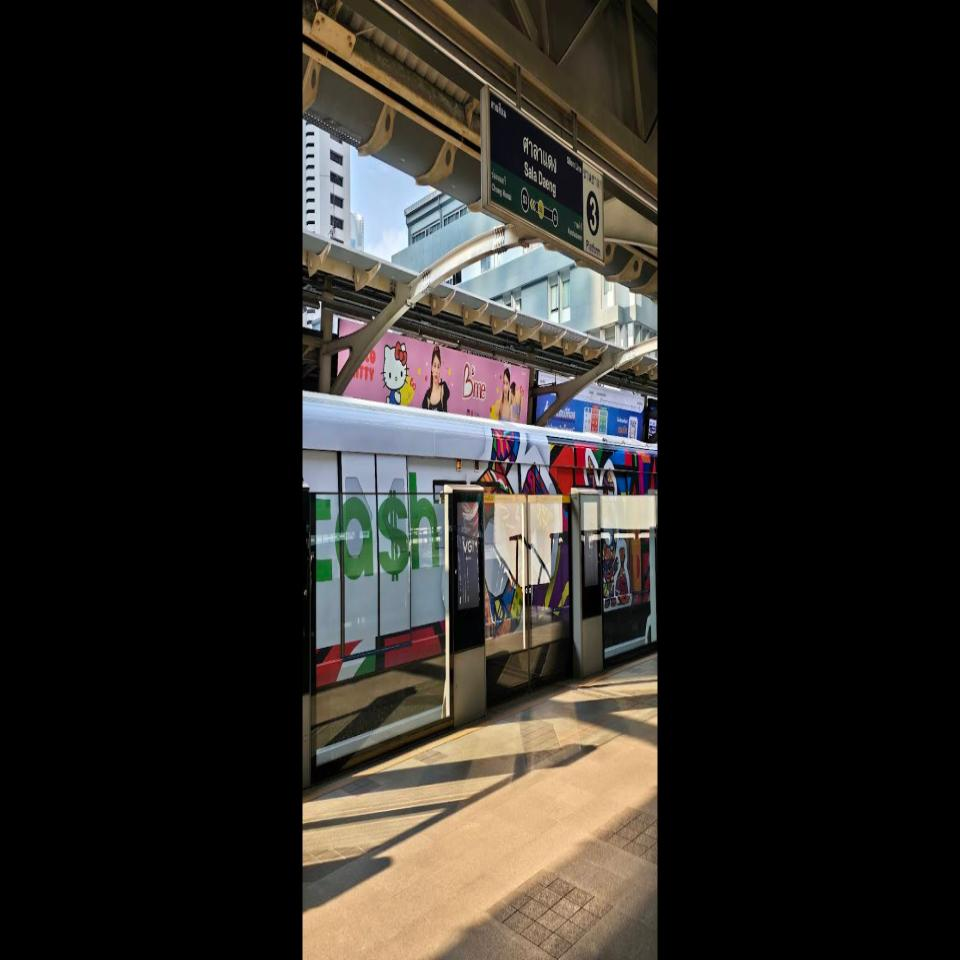signage: (521, 106, 559, 241)
